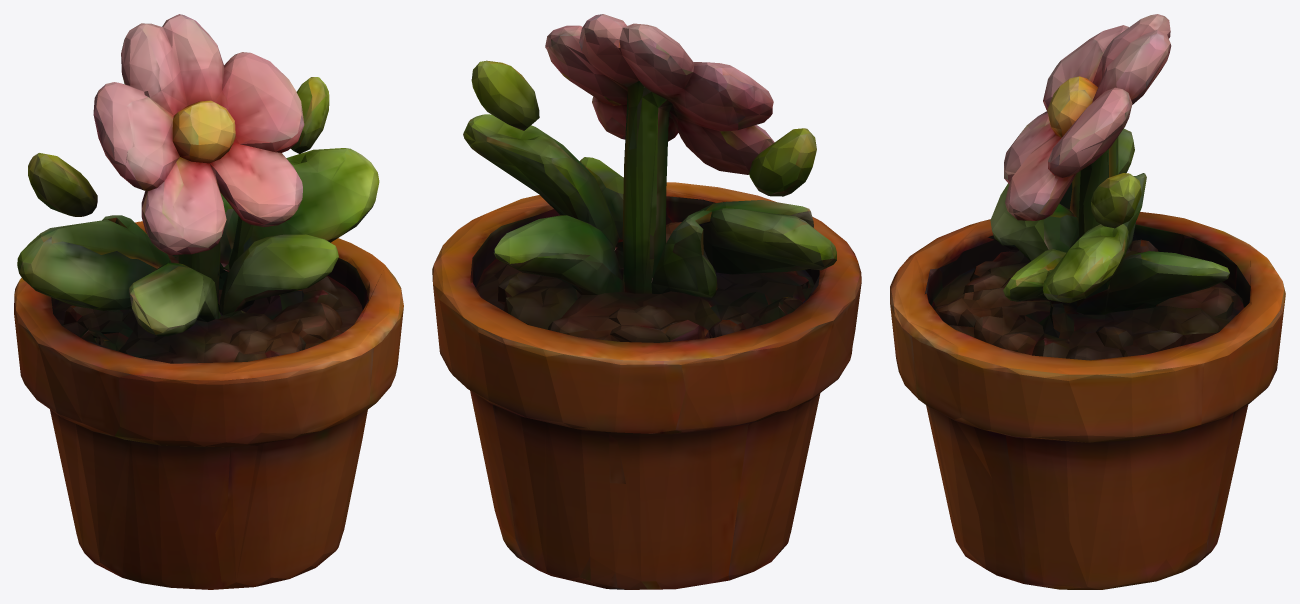
The model's file is flower.glb.
3 views of the same model, side by side, from view 1: azimuth 30°, elevation 25°; view 2: azimuth 150°, elevation 25°; view 3: azimuth 270°, elevation 25° (orthographic). The views are drawn at different scales.
Visible parts, largest first — view 1: geometry_0; view 2: geometry_0; view 3: geometry_0.
Boxes of the visible parts, box(x1,y1,x2,y2) form: geometry_0: box(14, 14, 403, 589); geometry_0: box(432, 14, 861, 589); geometry_0: box(890, 14, 1285, 589).
Bounding box in the file's own units: 0.2401 × 0.325 × 0.2316.
Materials: 1 (1 with a texture image).
